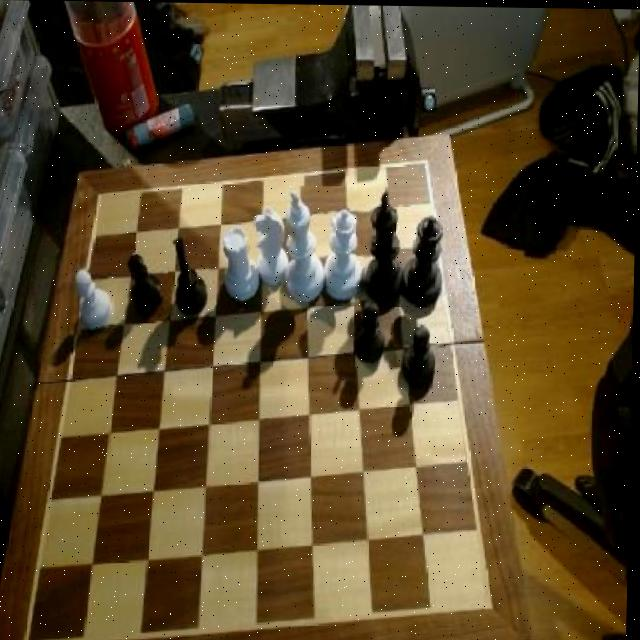black-bishop: (363, 186, 411, 306)
black-king: (170, 234, 214, 320)
black-knight: (401, 322, 441, 392), (125, 252, 166, 318), (355, 299, 391, 367)
black-pawn: (402, 211, 452, 311)
white-bishop: (284, 185, 331, 307)
white-king: (255, 206, 292, 287)
white-knight: (72, 267, 116, 334)
white-pawn: (324, 206, 370, 304)
white-queen: (222, 223, 265, 305)
